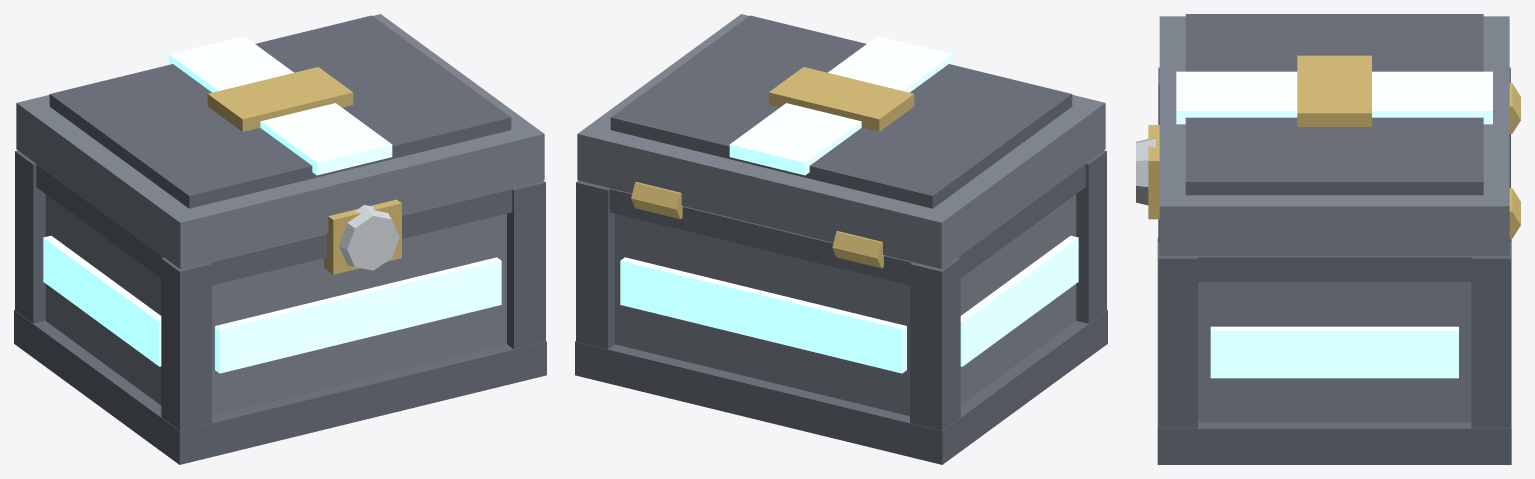
The picture shows the model from 3 angles, left to right: view 1: azimuth 30°, elevation 25°; view 2: azimuth 150°, elevation 25°; view 3: azimuth 270°, elevation 25°; orthographic projection. The views are drawn at different scales.
Parts seen in each view (by area): view 1: BoxBody, LidPivot, SealPart; view 2: BoxBody, LidPivot; view 3: LidPivot, BoxBody, SealPart.
Boxes of the visible parts, box(x1,y1,x2,y2) form: BoxBody: box(14, 150, 546, 464); LidPivot: box(16, 14, 544, 268); SealPart: box(324, 199, 401, 274); BoxBody: box(575, 150, 1107, 464); LidPivot: box(577, 14, 1105, 268); LidPivot: box(1159, 14, 1509, 255); BoxBody: box(1157, 67, 1520, 464); SealPart: box(1136, 125, 1159, 219).
Size of the model in its own units: 0.365 by 0.253 by 0.31.
